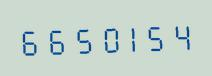five: (67, 21, 91, 56), (142, 18, 166, 53)
four: (167, 17, 191, 52)
one: (117, 19, 141, 54)
six: (17, 23, 41, 58), (42, 22, 66, 57)
zero: (92, 20, 116, 55)
